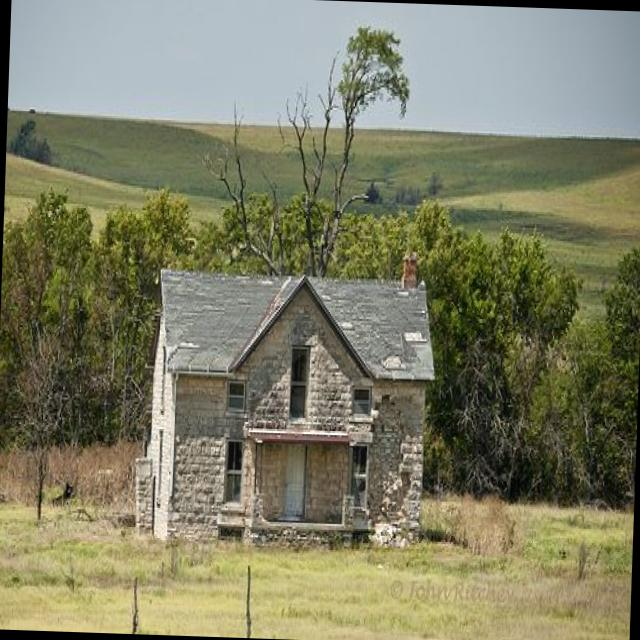House: (134, 241, 438, 549)
